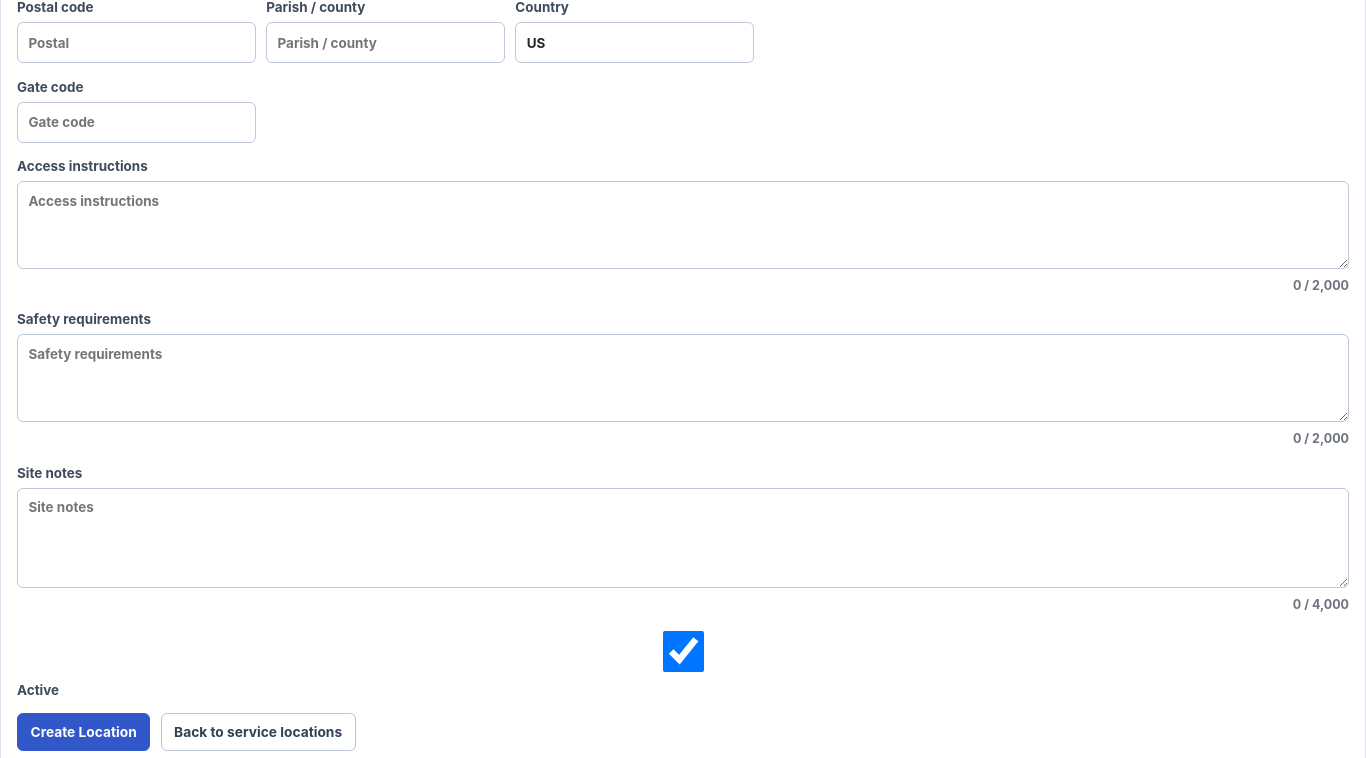
Test: validates required service-location fields before create
(page scrolled)
Click the button "Create Location" at {"x": 84, "y": 732}, box [17,713,150,751]
(page scrolled)
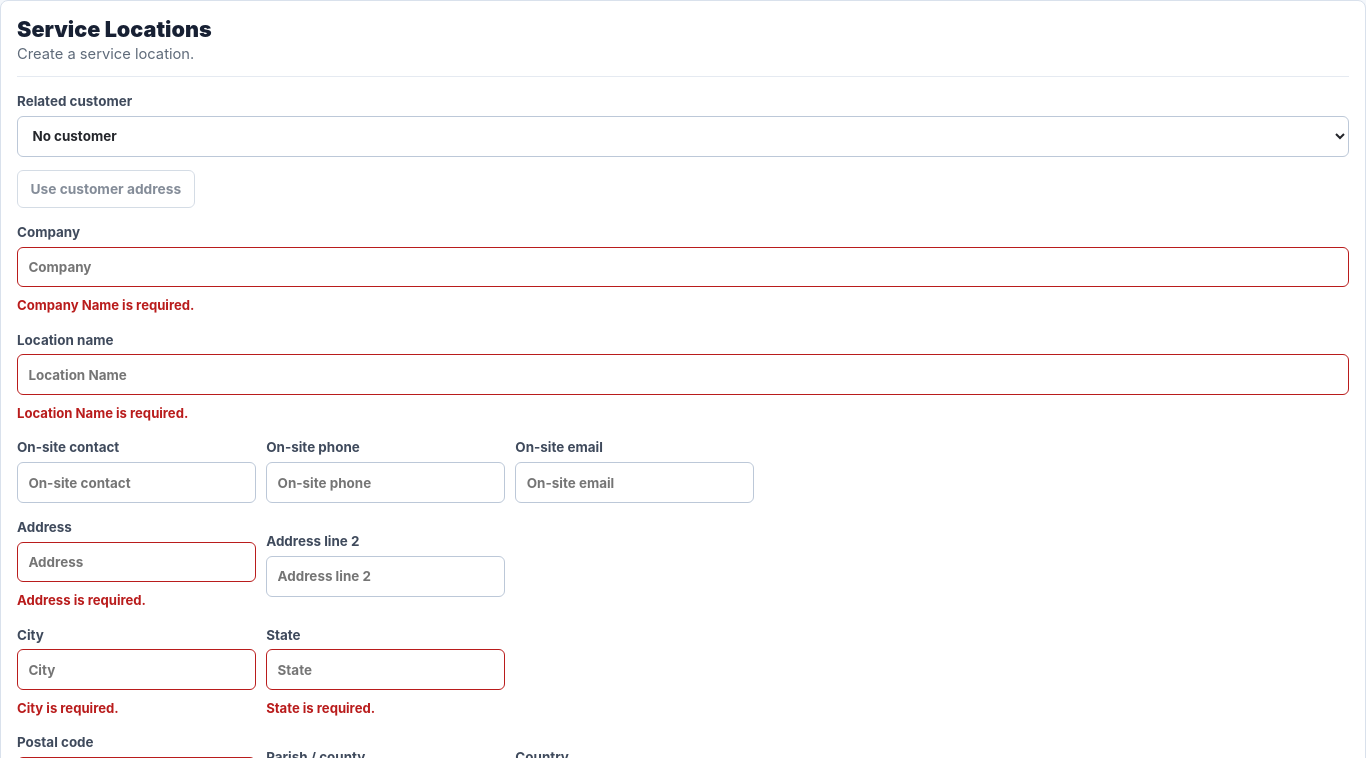
Expected: the text "Location Name is required." is shown, [17,405,188,421]
